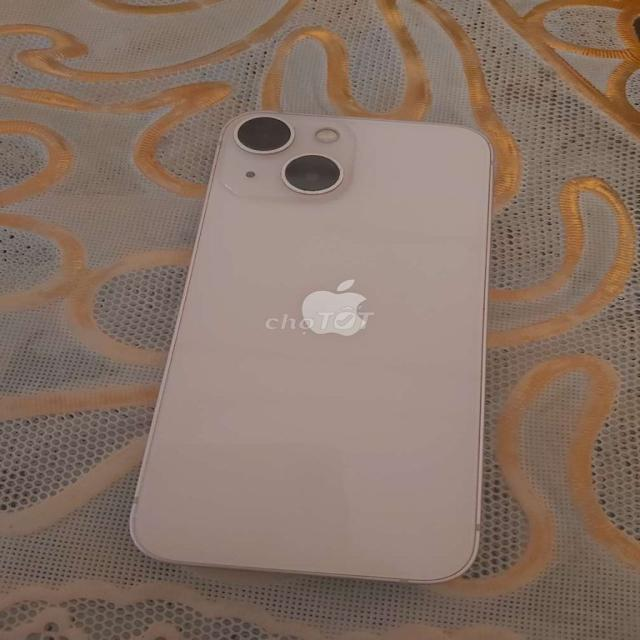gen_12_13: (126, 103, 508, 580)
